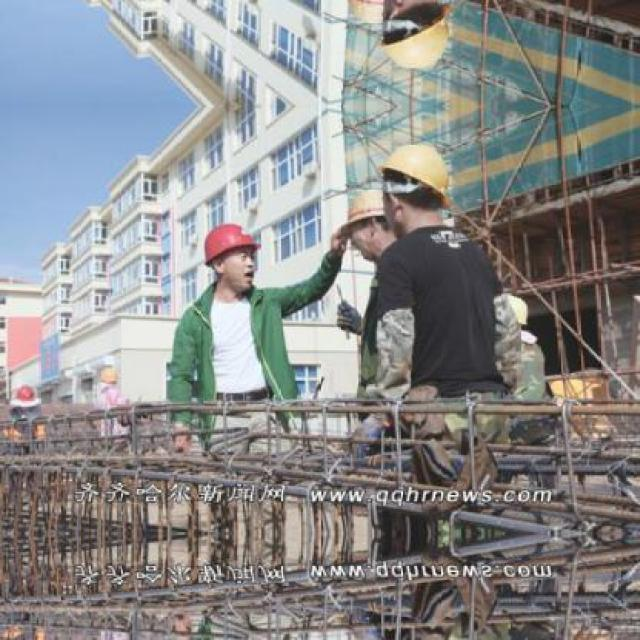helmet: (376, 144, 458, 244), (375, 0, 459, 69), (201, 224, 261, 296), (488, 289, 534, 339), (8, 381, 38, 410), (98, 362, 120, 388)
